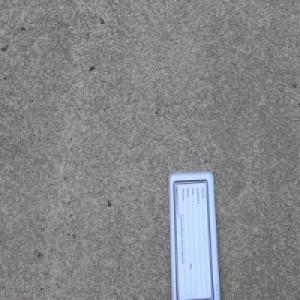LuggageTag: (166, 168, 221, 300)
